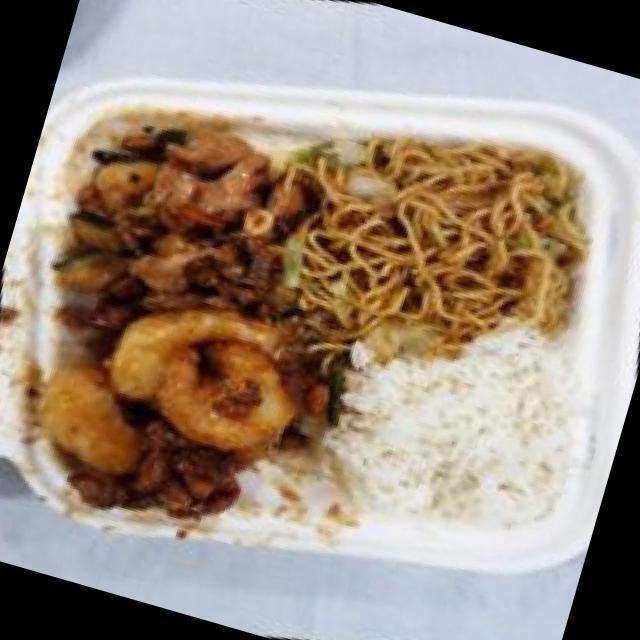Chow Mein: (257, 75, 628, 406)
Honey Walnut Shrimp: (0, 237, 350, 578)
Kung Pao Chicken: (3, 64, 348, 382)
White Steamed Rice: (286, 284, 620, 583)
